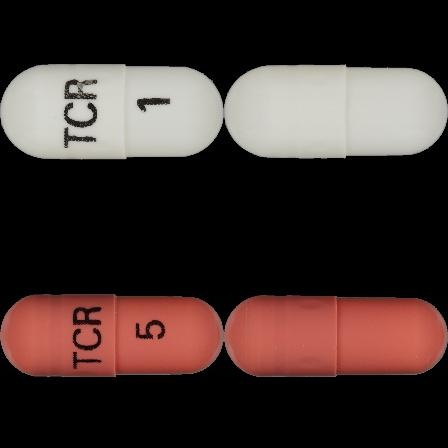16729-042: (0, 0, 224, 224)
